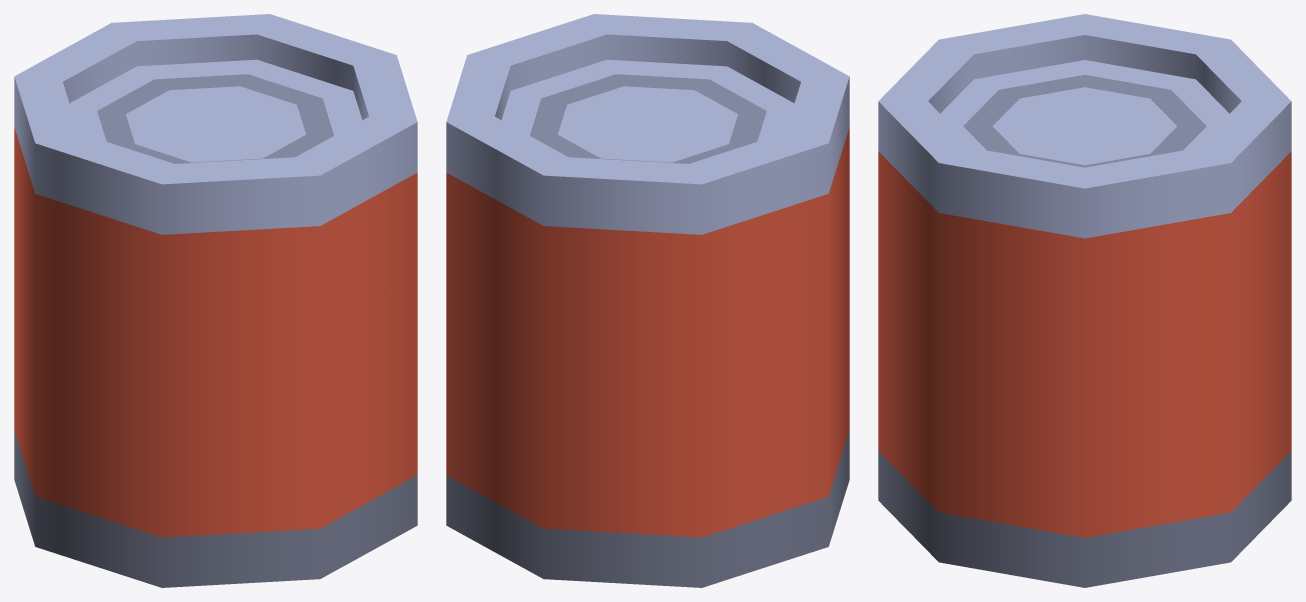
The model's file is lata.glb.
The picture shows the model from 3 angles, left to right: view 1: azimuth 30°, elevation 25°; view 2: azimuth 150°, elevation 25°; view 3: azimuth 270°, elevation 25°; orthographic projection.
Visible parts, largest first — view 1: can; view 2: can; view 3: can.
Boxes of the visible parts, left/top/right/bottom form: can: left=14, top=14, right=417, bottom=587; can: left=446, top=14, right=849, bottom=587; can: left=878, top=14, right=1291, bottom=587.
Size of the model in its own units: 0.3 by 0.32 by 0.3.
